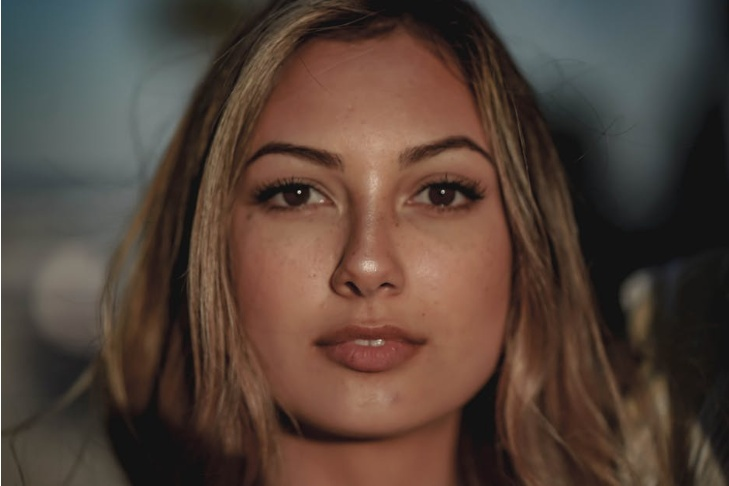face: (228, 38, 509, 435)
